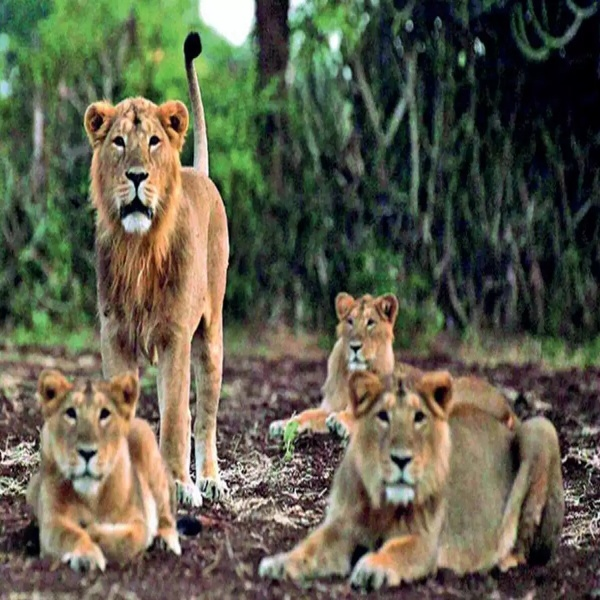Lion: (80, 27, 244, 512), (252, 367, 566, 591), (267, 286, 522, 448), (25, 363, 188, 577)
